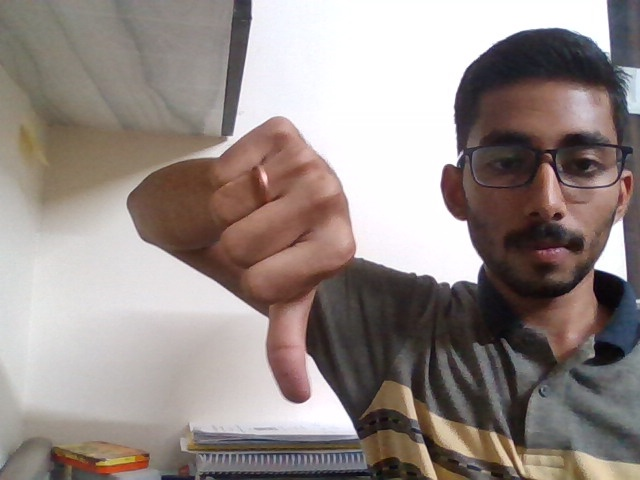No: (190, 100, 380, 424)
